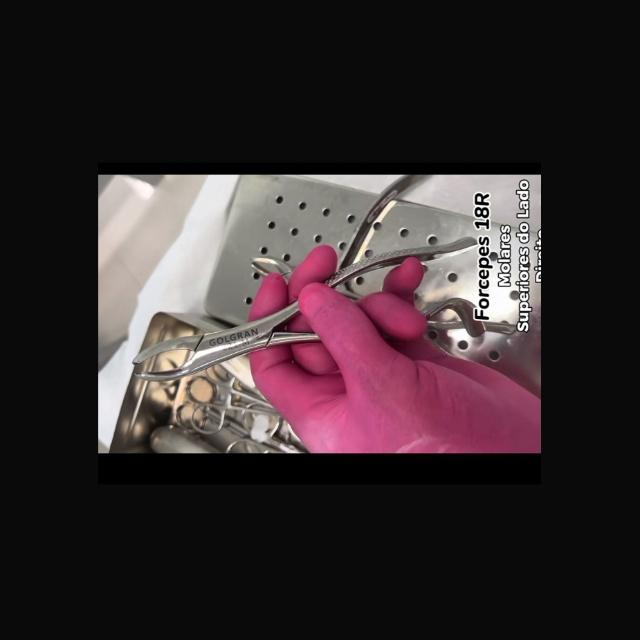forceps: (133, 302, 320, 382), (326, 237, 478, 288)
